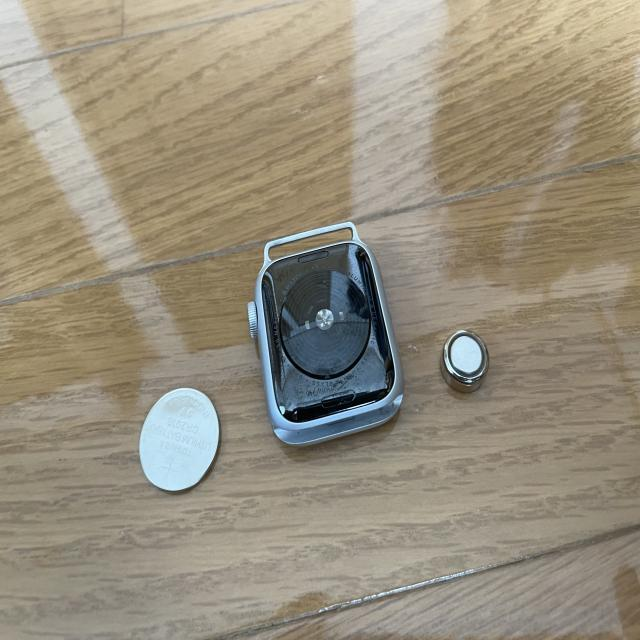COIN: (138, 390, 221, 492), (440, 330, 489, 392)
